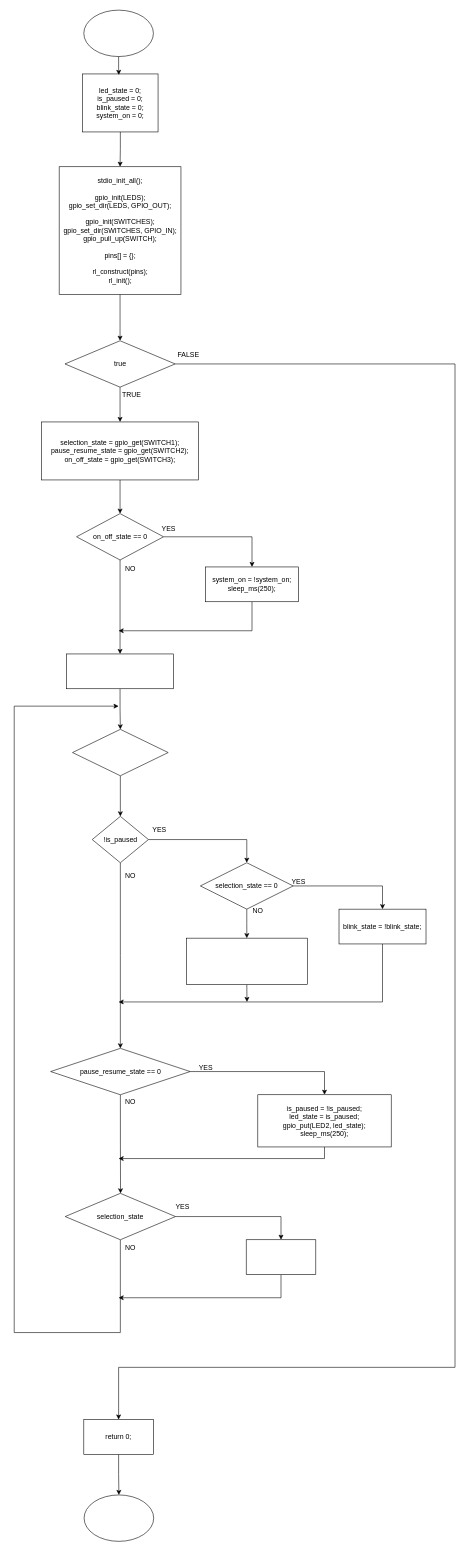
The diagram is 470 pixels wide and 1552 high, and some of its shapes have lost their labels. The shapes that lost their labels are listed below. From the top down, each one's box as (x1, y1, x2, y2) in pixels, then its label:
(83, 10, 153, 57): START
(66, 653, 174, 689): gpio_put(LED3, system_on);
(72, 729, 168, 776): system_on
(186, 938, 307, 985): selection_state = blink_state; gpio_put(LED1, !selection_state); sleep_ms(250);
(246, 1239, 316, 1275): rotary_led();
(84, 1494, 154, 1541): END
